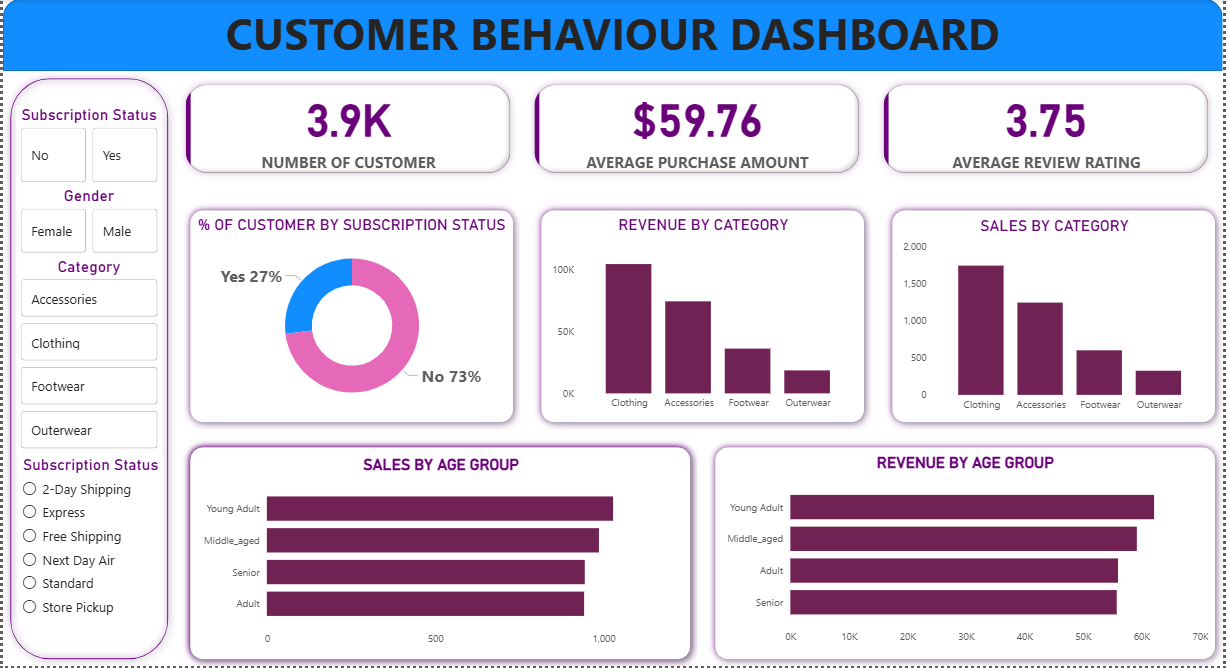

The dashboard page shown, as its layout file describes it:
{"tool":"powerbi","page":{"name":"Page 1","canvas":[1500,820],"ordinal":0},"visuals":[{"type":"cardVisual","fields":{"Data":["public customer.NUMBER OF CUSTOMER","public customer.AVERAGE PURCHASE AMOUNT","public customer.AVERAGE REVIEW RATING"]},"box":[208.4,88.5,1290.9,142],"z":0},{"type":"shape","box":[0,0,1499.3,88.5],"z":1000},{"type":"textbox","box":[0,0,1499.3,88.5],"z":2000},{"type":"shape","box":[221.3,250.8,414.9,278.5],"z":3000},{"type":"donutChart","title":"% OF CUSTOMER BY SUBSCRIPTION STATUS","fields":{"Category":["public customer.subscription_status"],"Y":["Count(public customer.customer_id)"]},"box":[234.2,265.6,389.1,249],"z":4000},{"type":"shape","box":[652.8,250.8,414.9,278.5],"z":5000},{"type":"shape","box":[1084.3,250.8,414.9,278.5],"z":6000},{"type":"clusteredColumnChart","title":"REVENUE BY CATEGORY","fields":{"Category":["public customer.category"],"Y":["Sum(public customer.purchase_amount)"]},"box":[669.4,265.6,383.6,249],"z":7000},{"type":"clusteredColumnChart","title":"SALES BY CATEGORY","fields":{"Category":["public customer.category"],"Y":["CountNonNull(public customer.customer_id)"]},"box":[1100.9,267.4,383.6,249],"z":8000},{"type":"shape","box":[0,88.5,212.1,732.1],"z":9000},{"type":"advancedSlicerVisual","title":"Subscription Status","fields":{"Values":["public customer.subscription_status"]},"box":[16.6,130.9,178.9,99.6],"z":10000},{"type":"advancedSlicerVisual","title":"Gender","fields":{"Values":["public customer.gender"]},"box":[16.6,230.5,178.9,86.7],"z":11000},{"type":"advancedSlicerVisual","title":"Category","fields":{"Values":["public customer.category"]},"box":[16.6,317.2,178.9,243.4],"z":12000},{"type":"listSlicer","title":"Subscription Status","fields":{"Values":["public customer.shipping_type"]},"box":[18.4,560.6,178.9,210.2],"z":13000},{"type":"shape","box":[866.7,542.2,632.5,278.5],"z":14250},{"type":"shape","box":[221.3,542.2,632.5,278.5],"z":14375},{"type":"clusteredBarChart","title":"REVENUE BY AGE GROUP","fields":{"Y":["Sum(public customer.purchase_amount)"],"Category":["public customer.age_group"]},"box":[879.6,558.8,606.7,243.4],"z":14437},{"type":"shape","box":[221.3,541.5,632.5,278.5],"z":14500},{"type":"clusteredBarChart","title":"SALES BY AGE GROUP","fields":{"Y":["CountNonNull(public customer.customer_id)"],"Category":["public customer.age_group"]},"box":[236,560.6,604.9,243.4],"z":16500}]}

Visuals, with their boxes in screenshot pixels (x1, y1, x2, y2), scaled from the page's 1500x820 canvas onto the 1228x668 screenshot:
cardVisual - public customer.NUMBER OF CUSTOMER x public customer.AVERAGE PURCHASE AMOUNT: [171,72,1227,188]
shape: [0,0,1227,72]
textbox: [0,0,1227,72]
shape: [181,204,521,431]
"% OF CUSTOMER BY SUBSCRIPTION STATUS" donutChart: [192,216,510,419]
shape: [534,204,874,431]
shape: [888,204,1227,431]
"REVENUE BY CATEGORY" clusteredColumnChart: [548,216,862,419]
"SALES BY CATEGORY" clusteredColumnChart: [901,218,1215,421]
shape: [0,72,174,667]
"Subscription Status" advancedSlicerVisual: [14,107,160,188]
"Gender" advancedSlicerVisual: [14,188,160,258]
"Category" advancedSlicerVisual: [14,258,160,457]
"Subscription Status" listSlicer: [15,457,162,628]
shape: [710,442,1227,667]
shape: [181,442,699,667]
"REVENUE BY AGE GROUP" clusteredBarChart: [720,455,1217,653]
shape: [181,441,699,667]
"SALES BY AGE GROUP" clusteredBarChart: [193,457,688,655]
